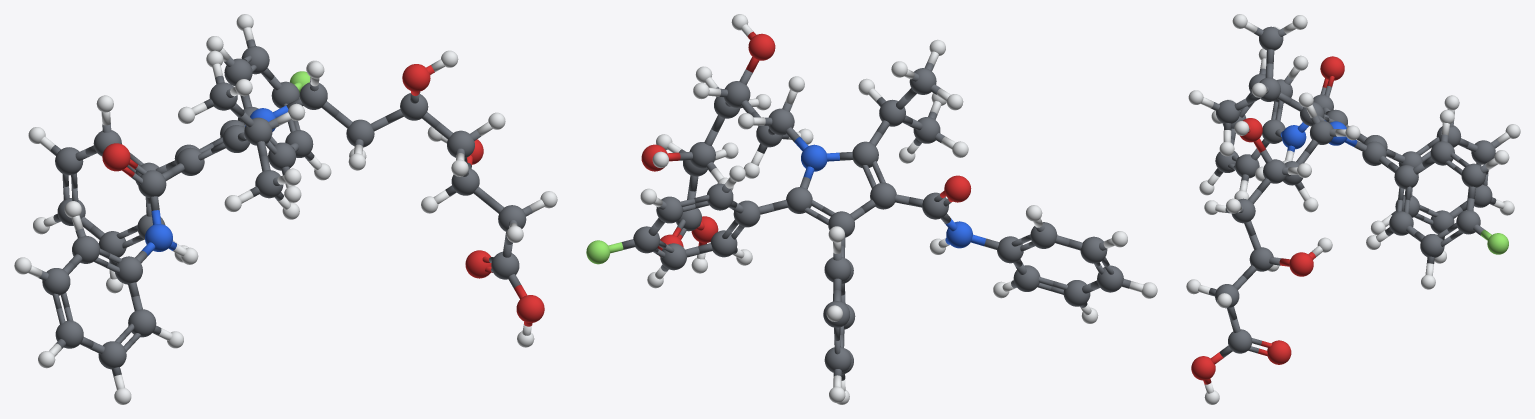
Rendered from atorvastatin.glb.
The picture shows the model from 3 angles, left to right: view 1: azimuth 30°, elevation 25°; view 2: azimuth 150°, elevation 25°; view 3: azimuth 270°, elevation 25°; orthographic projection. The views are drawn at different scales.
Visible parts, largest first — view 1: atorvastatin; view 2: atorvastatin; view 3: atorvastatin.
Part boxes in pixels (x1,y1,x2,y2): atorvastatin: (14, 14, 557, 404); atorvastatin: (586, 14, 1157, 404); atorvastatin: (1186, 14, 1520, 404).
Bounding box in the file's own units: 15.33 × 9.05 × 9.83.
